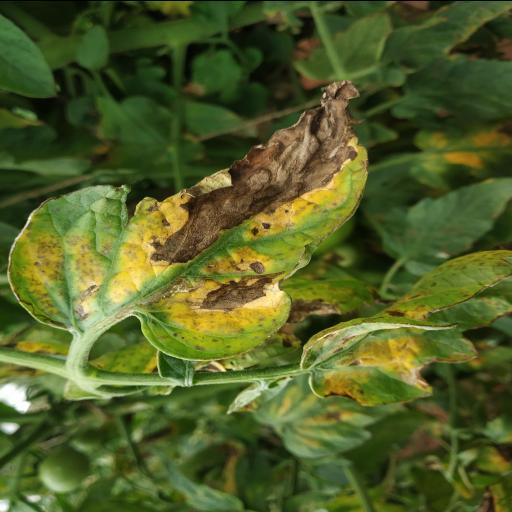disease_tomato: (10, 66, 386, 364)
